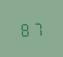eight: (19, 20, 30, 37)
seven: (31, 20, 42, 36)
